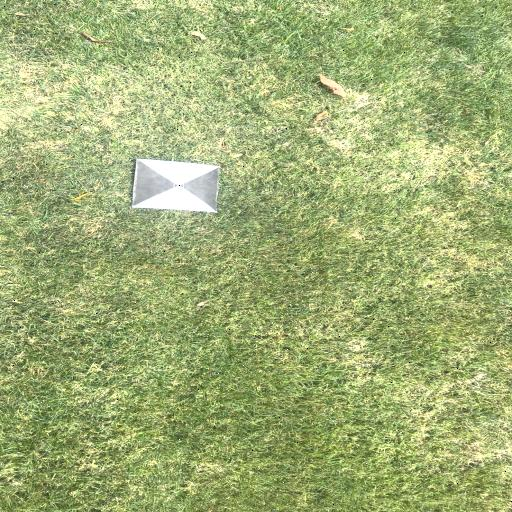target: (133, 159, 220, 212)
